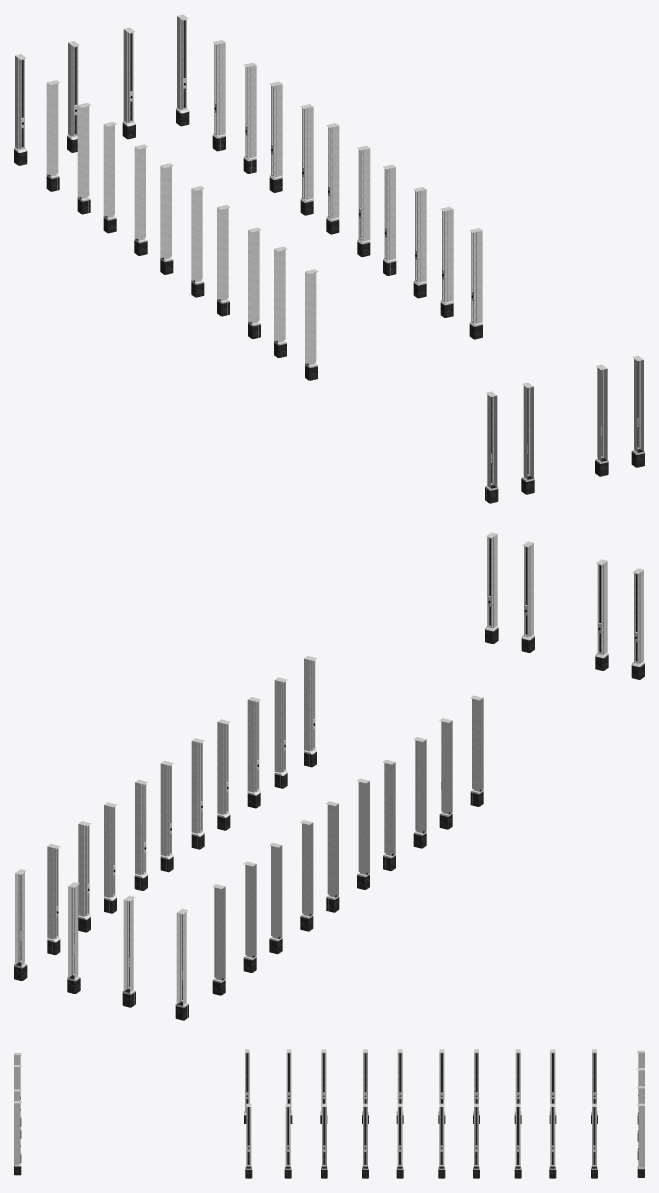
Rendered from ExtraColumns.fbx.
3 views of the same model, one above another, from view 1: azimuth 30°, elevation 25°; view 2: azimuth 150°, elevation 25°; view 3: azimuth 270°, elevation 25° (orthographic). The views are drawn at different scales.
Parts seen in each view (by area): view 1: Column_14, Column_15, Column_9, Column_16, Column_19, Column_11, Column_4, Column_17, Column_18, Column_13, Column_10, Column_8 (+16 smaller); view 2: Column_7, Column_22, Column_17, Column_21, Column_8, Column_9, Column_4, Column_14, Column_15, Column_16, Column_23, Column_18 (+16 smaller); view 3: Column_25, Column_1, Column_13, Column_10, Column_8, Column_9, Column_4, Column_5, Column_12, Column_11, Column_6, Column_7 (+10 smaller).
Part boxes in pixels (x1,y1,x2,y2): Column_14: (46, 80, 59, 191); Column_15: (77, 102, 90, 214); Column_9: (357, 145, 370, 257); Column_16: (103, 121, 116, 233); Column_19: (191, 186, 204, 297); Column_11: (300, 104, 313, 215); Column_4: (440, 206, 453, 317); Column_17: (134, 144, 147, 255); Column_18: (160, 163, 173, 274); Column_13: (243, 62, 256, 173); Column_10: (269, 81, 282, 192); Column_8: (326, 123, 339, 234); Column_7: (247, 697, 260, 808); Column_22: (439, 718, 452, 829); Column_17: (300, 820, 313, 931); Column_21: (413, 737, 426, 848); Column_8: (160, 761, 173, 872); Column_9: (191, 738, 204, 849); Column_4: (274, 677, 287, 788); Column_14: (212, 884, 225, 995); Column_15: (243, 861, 256, 972); Column_16: (269, 842, 282, 954); Column_23: (470, 695, 483, 806); Column_18: (325, 801, 339, 912); Column_25: (637, 1103, 644, 1177); Column_1: (14, 1101, 21, 1175); Column_13: (549, 1103, 556, 1178); Column_10: (514, 1103, 521, 1178); Column_8: (438, 1103, 445, 1178); Column_9: (396, 1103, 403, 1178); Column_4: (284, 1103, 291, 1178); Column_5: (245, 1103, 252, 1178); Column_12: (591, 1103, 597, 1178); Column_11: (473, 1103, 479, 1178); Column_6: (362, 1103, 368, 1178); Column_7: (321, 1103, 327, 1178).
Size of the model in its own units: 2068 by 1200 by 9586.
57 materials, 56 textured.
